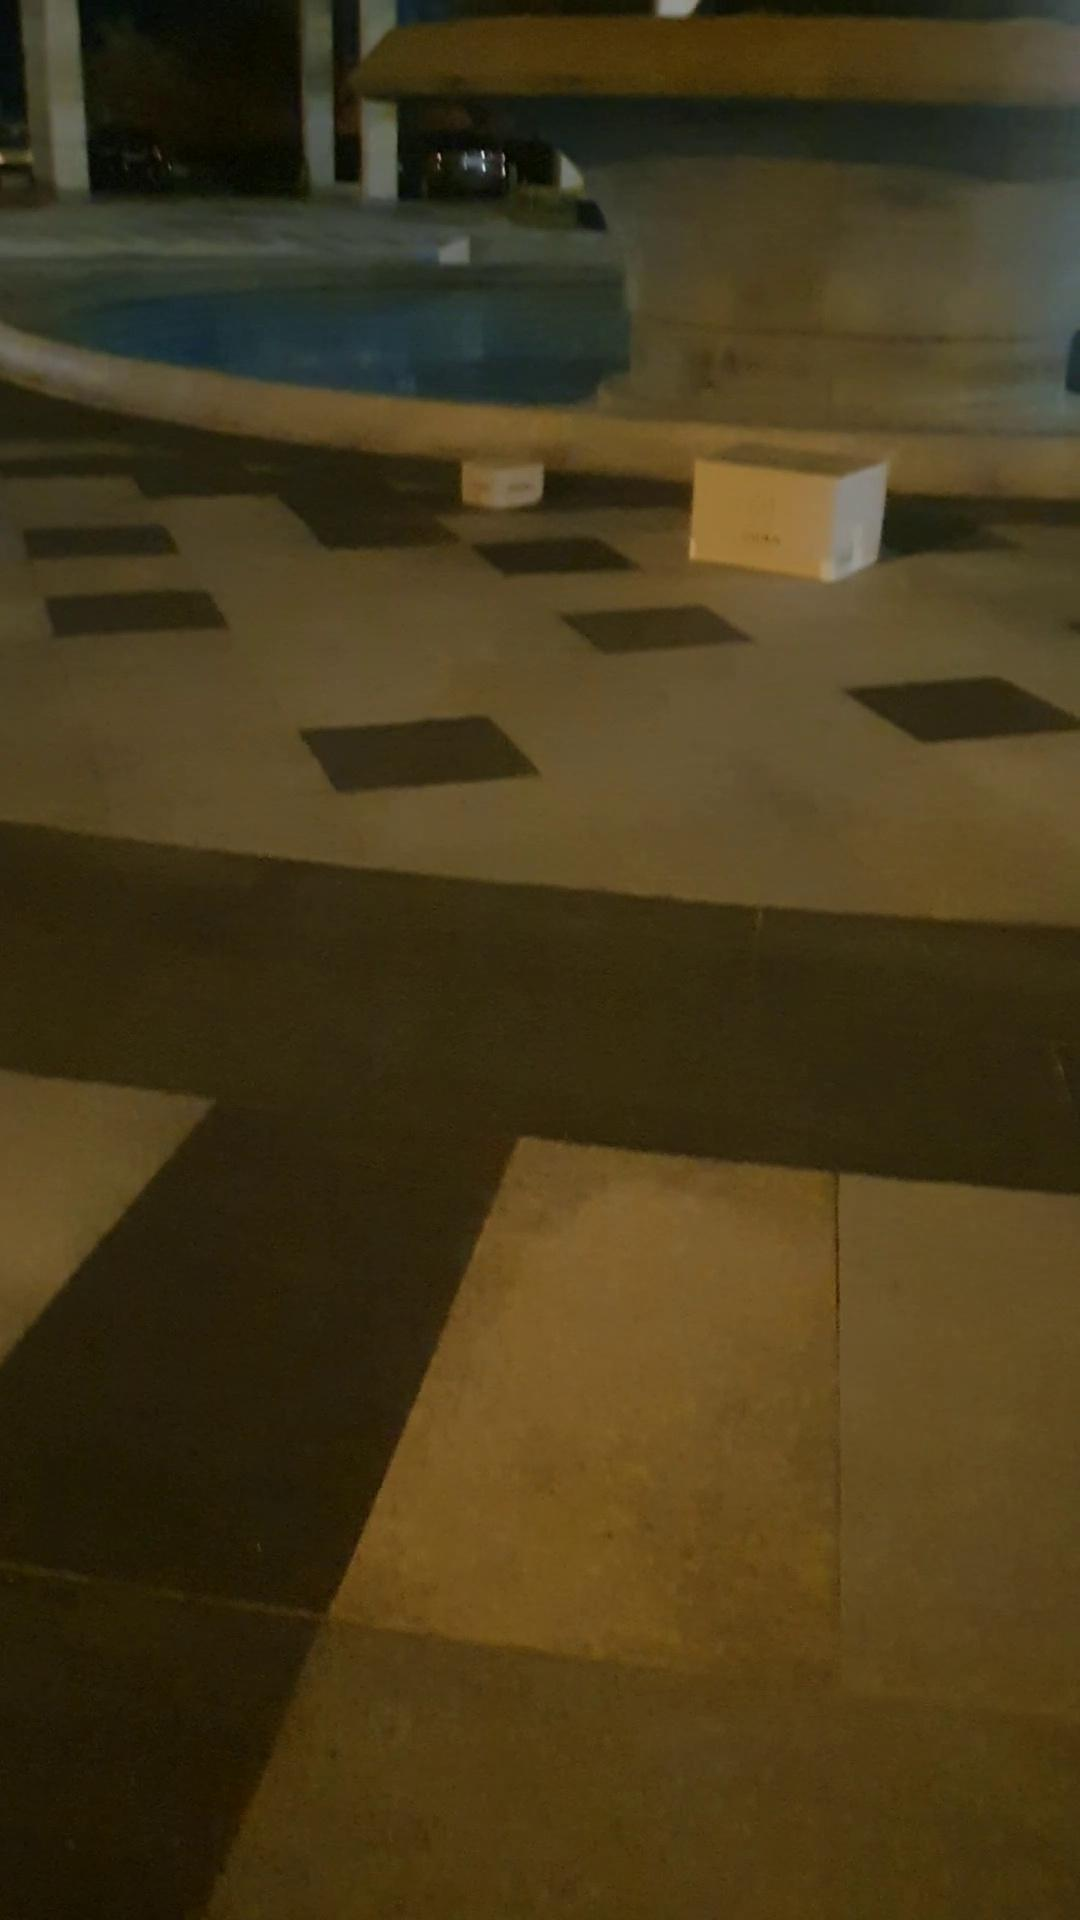Box: (683, 435, 913, 587), (436, 443, 564, 524)
